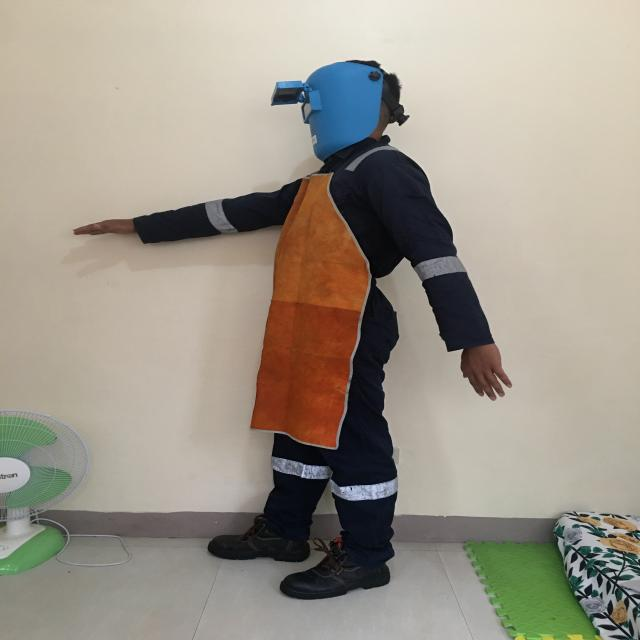with_helmet: (256, 38, 421, 154)
